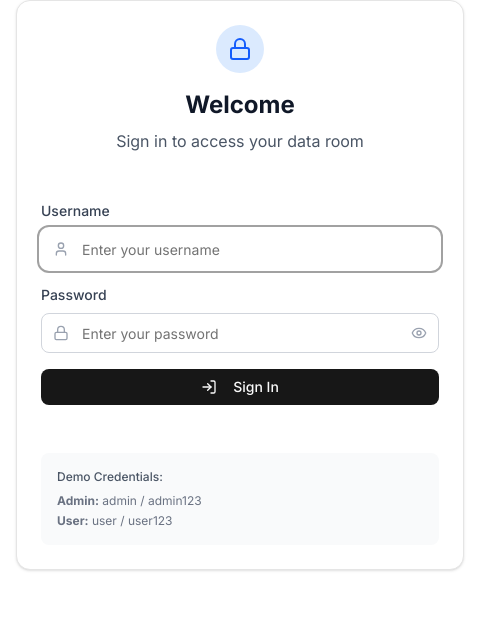
Scenario: LoginForm › validates username length
Step 1. Type "ab" into the field with placeholder "Enter your username" → (240, 249), box left=41, top=229, right=439, bottom=269
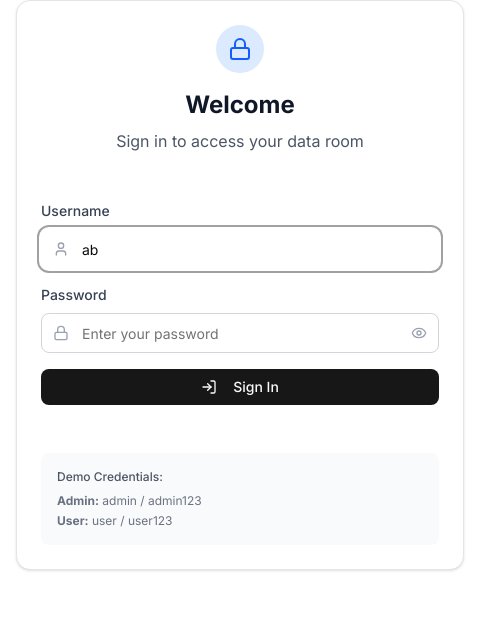
Step 2. Click the button "Sign In" → click(240, 387), box left=41, top=369, right=439, bottom=405
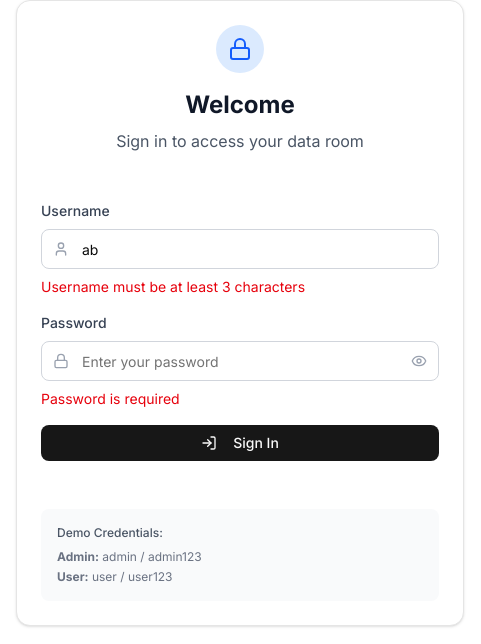
Expected: the text "Username must be at least 3 characters" is shown, left=41, top=278, right=305, bottom=295
